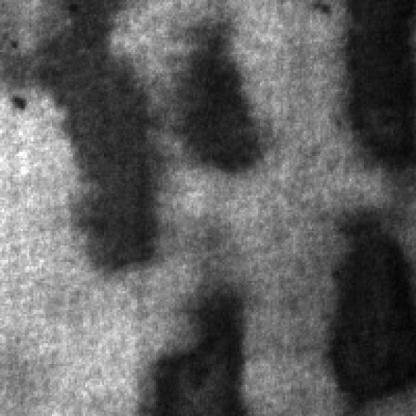patches: (19, 0, 156, 264), (324, 208, 414, 414), (166, 16, 262, 168), (142, 281, 248, 414), (336, 0, 413, 170)
